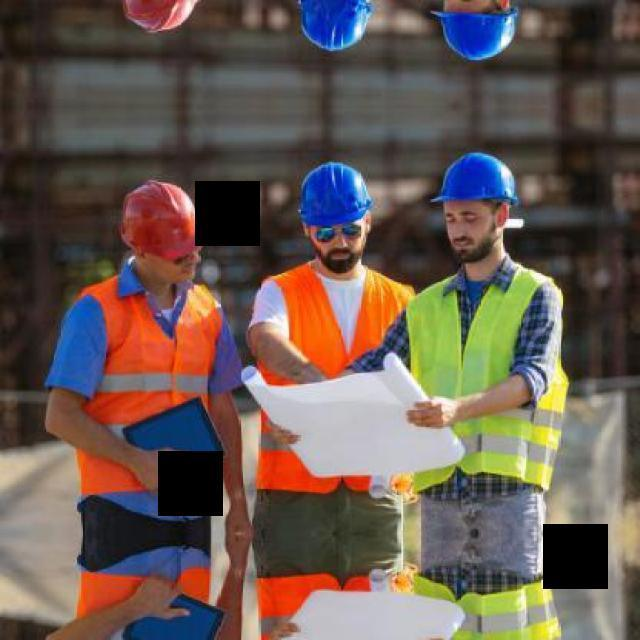blue helmet: (425, 148, 525, 209), (293, 164, 381, 230)
red helmet: (117, 181, 207, 257)
